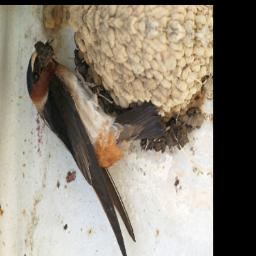Swallow: (16, 38, 148, 256)
